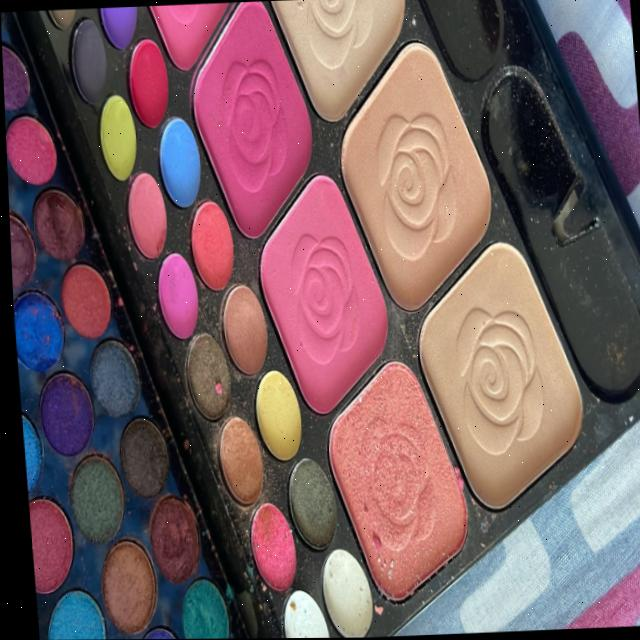eye shade: (151, 0, 573, 586)
lip shade: (0, 5, 190, 640)
